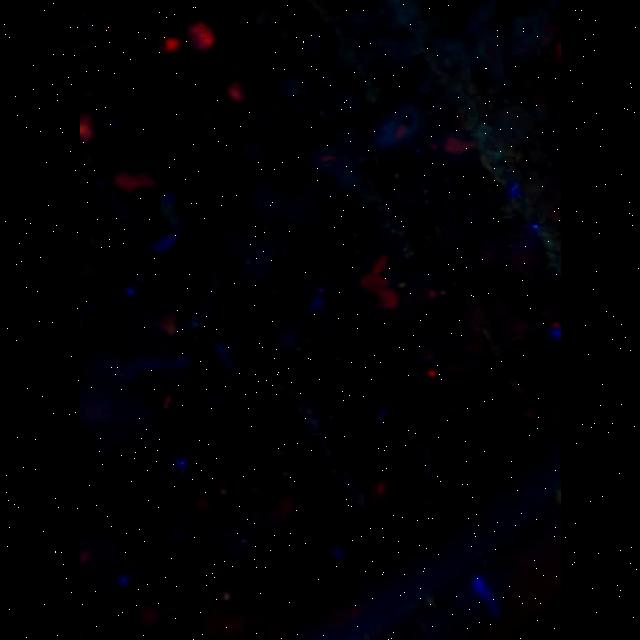Fragment: (361, 255, 398, 308)
